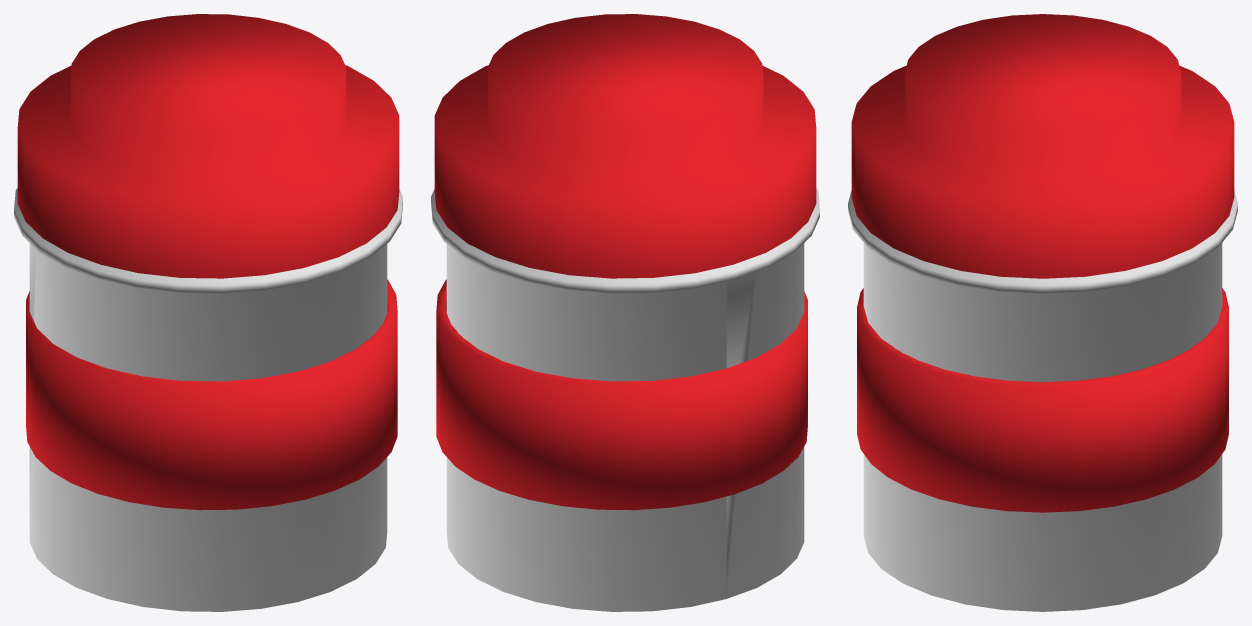
The model's file is analgesicos.glb.
The picture shows the model from 3 angles, left to right: view 1: azimuth 30°, elevation 25°; view 2: azimuth 150°, elevation 25°; view 3: azimuth 270°, elevation 25°; orthographic projection.
Parts seen in each view (by area): view 1: Cylinder.002_Cylinder.004, Cylinder, Cylinder.001; view 2: Cylinder.002_Cylinder.004, Cylinder, Cylinder.001; view 3: Cylinder.002_Cylinder.004, Cylinder, Cylinder.001.
Part boxes in pixels (x1=…): Cylinder.002_Cylinder.004: x1=17, y1=14, x2=399, y2=278; Cylinder: x1=14, y1=188, x2=402, y2=611; Cylinder.001: x1=26, y1=279, x2=397, y2=510; Cylinder.002_Cylinder.004: x1=434, y1=14, x2=816, y2=278; Cylinder: x1=431, y1=188, x2=819, y2=611; Cylinder.001: x1=436, y1=279, x2=807, y2=510; Cylinder.002_Cylinder.004: x1=851, y1=14, x2=1234, y2=278; Cylinder: x1=848, y1=190, x2=1237, y2=611; Cylinder.001: x1=857, y1=288, x2=1228, y2=512.
Size of the model in its own units: 1.81 by 2.37 by 1.81.
